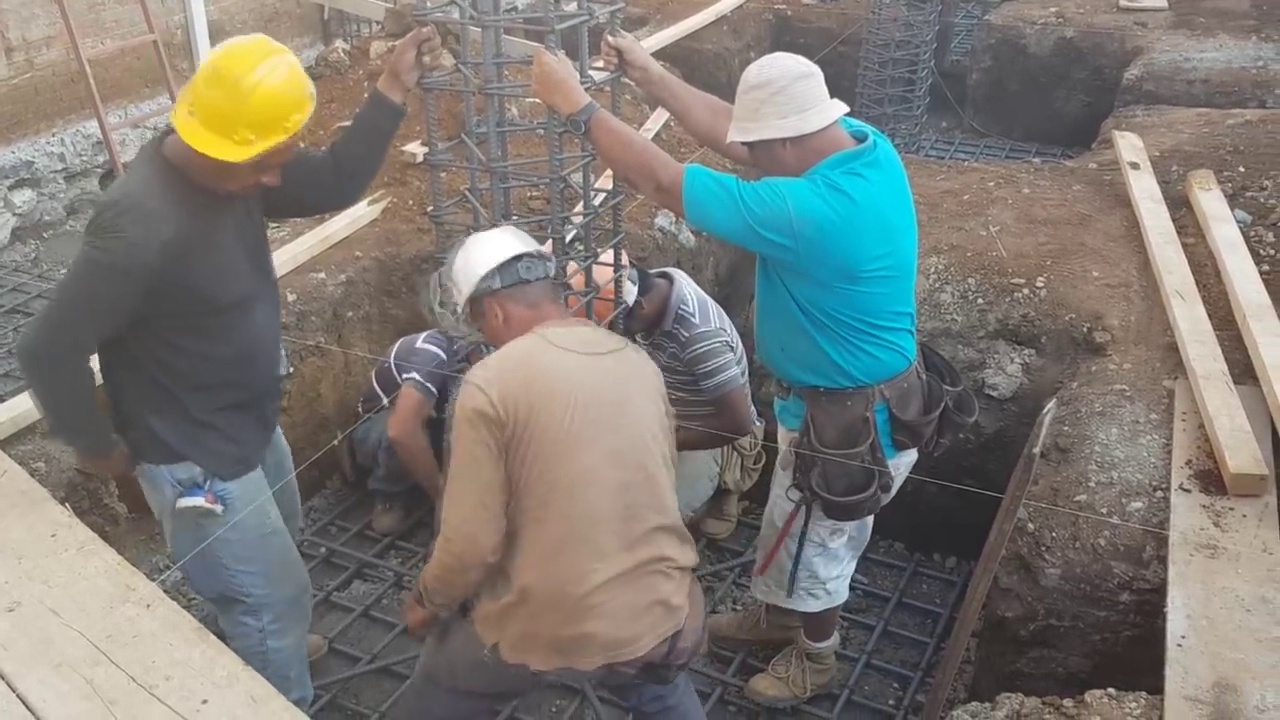helmet: (174, 30, 319, 167), (447, 227, 556, 324), (566, 246, 634, 334)
helmet-off: (723, 53, 872, 183)
helmet-on: (148, 30, 319, 201), (446, 222, 564, 354), (570, 244, 679, 345)
person: (14, 28, 440, 711), (529, 32, 930, 706), (406, 220, 710, 718), (570, 238, 760, 544), (356, 303, 472, 542)
